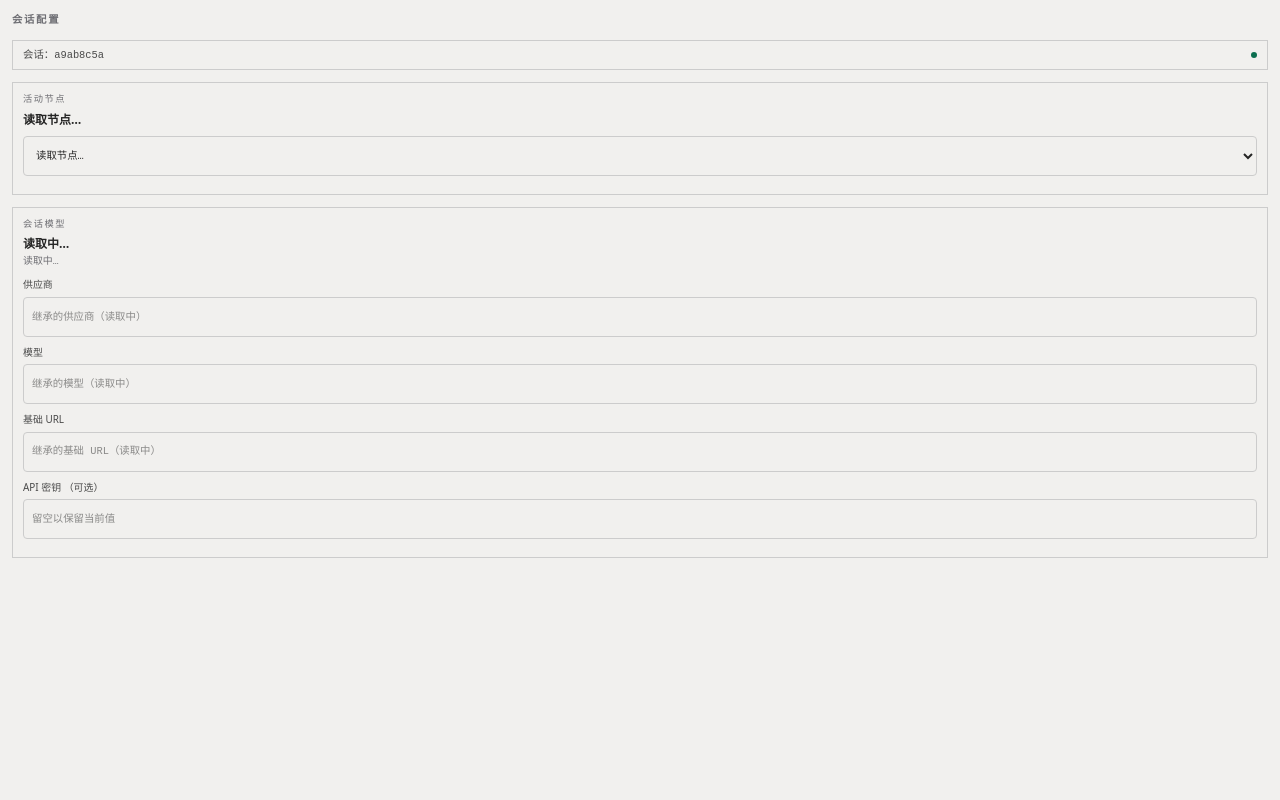
Test: SessionConfigPanel compact session UX › collapses session details by default and removes verbose WebSocket text for an open connection
This screenshot has width=1280, height=800.
Click the heading "会话：a9ab8c5a": (39, 55) [12, 40, 1268, 70]
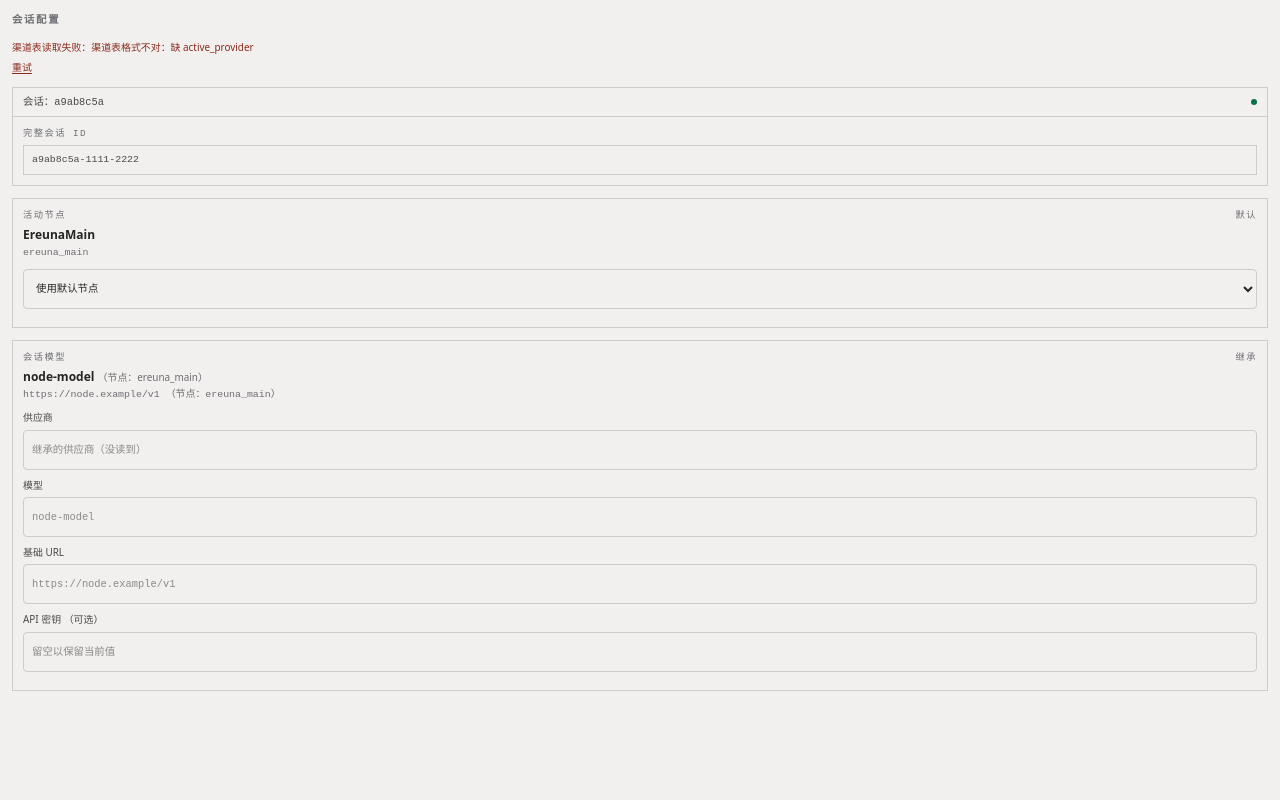
Expected: the text "完整会话 ID" is shown, [23, 128, 87, 139]
Expected: the button "a9ab8c5a-1111-2222" is shown, [23, 145, 1257, 175]
